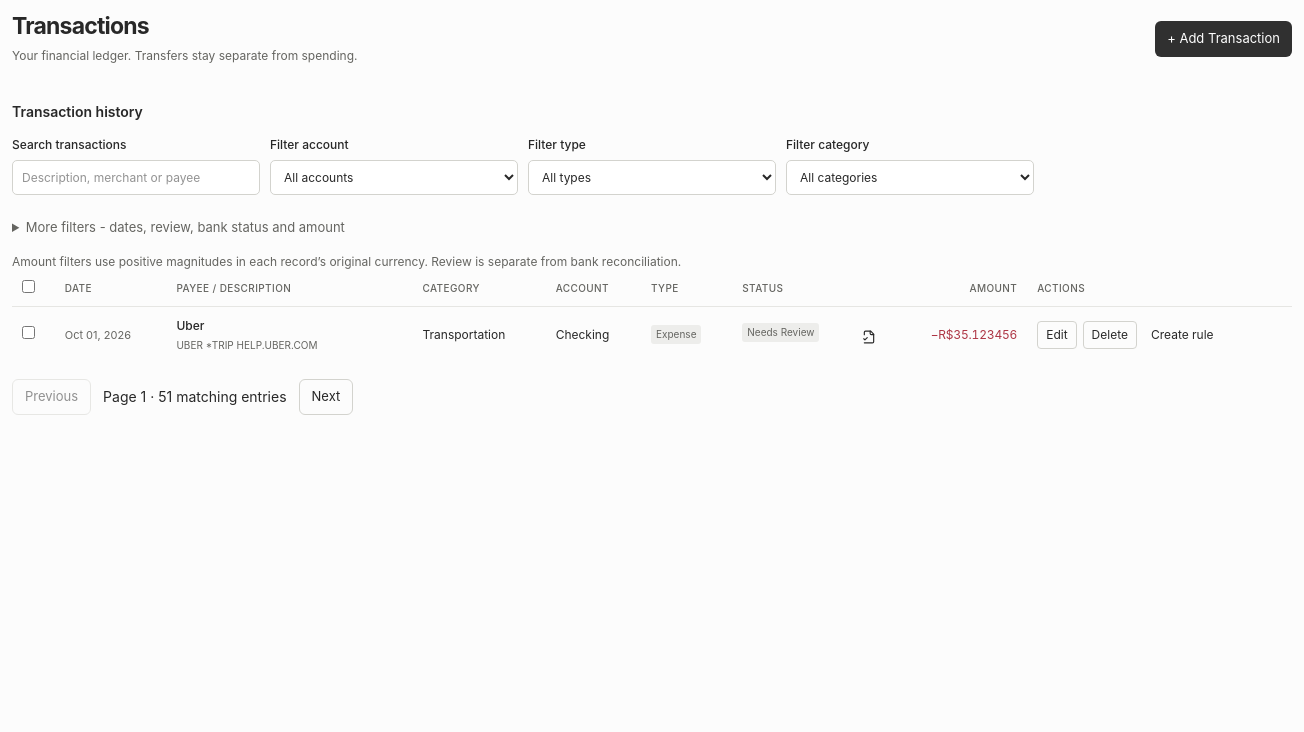
Test: paginates using server counts and clears selection on page/filter changes
The image size is (1304, 732).
Click the checkbox named "Select Uber" at (28, 332), box x1=22 y1=326 x2=35 y2=339
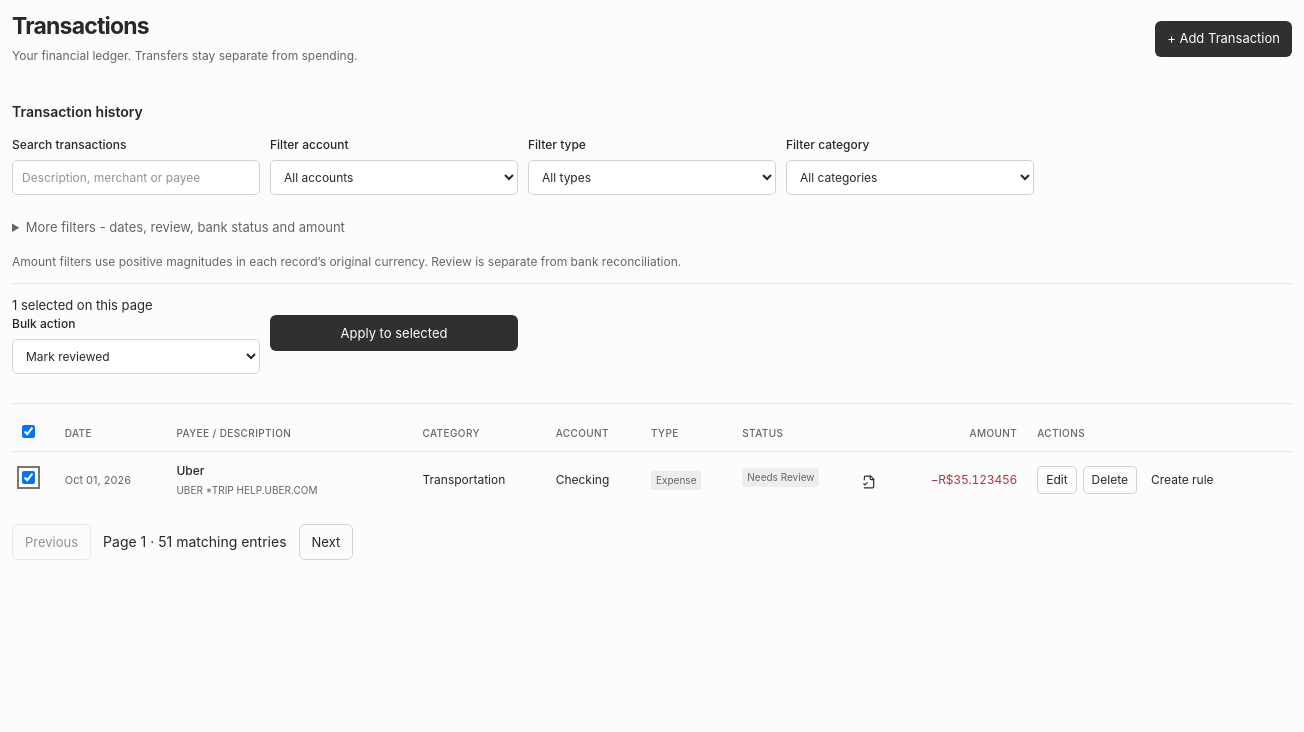
Result: the text "1 selected on this page" is shown at x1=12 y1=297 x2=152 y2=313
Click the button "Next" at (326, 542), box x1=299 y1=524 x2=353 y2=560
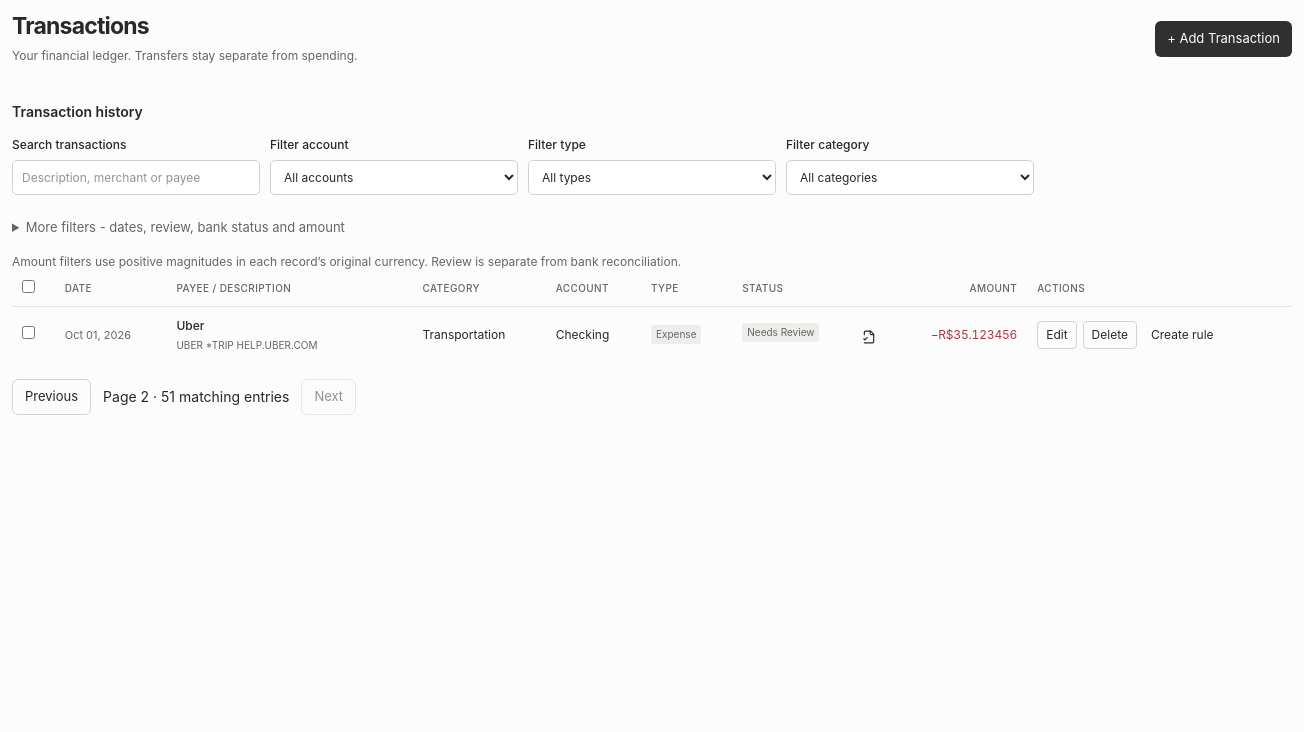
Result: the text "1 selected on this page" is gone
Result: the text "Page 2 · 51 matching entries" is shown at x1=103 y1=387 x2=289 y2=407
Result: the button "Next" is disabled at x1=301 y1=379 x2=356 y2=415
Click the heading "More filters - dates, review, bank status and amount" at (185, 227), box x1=26 y1=219 x2=345 y2=235
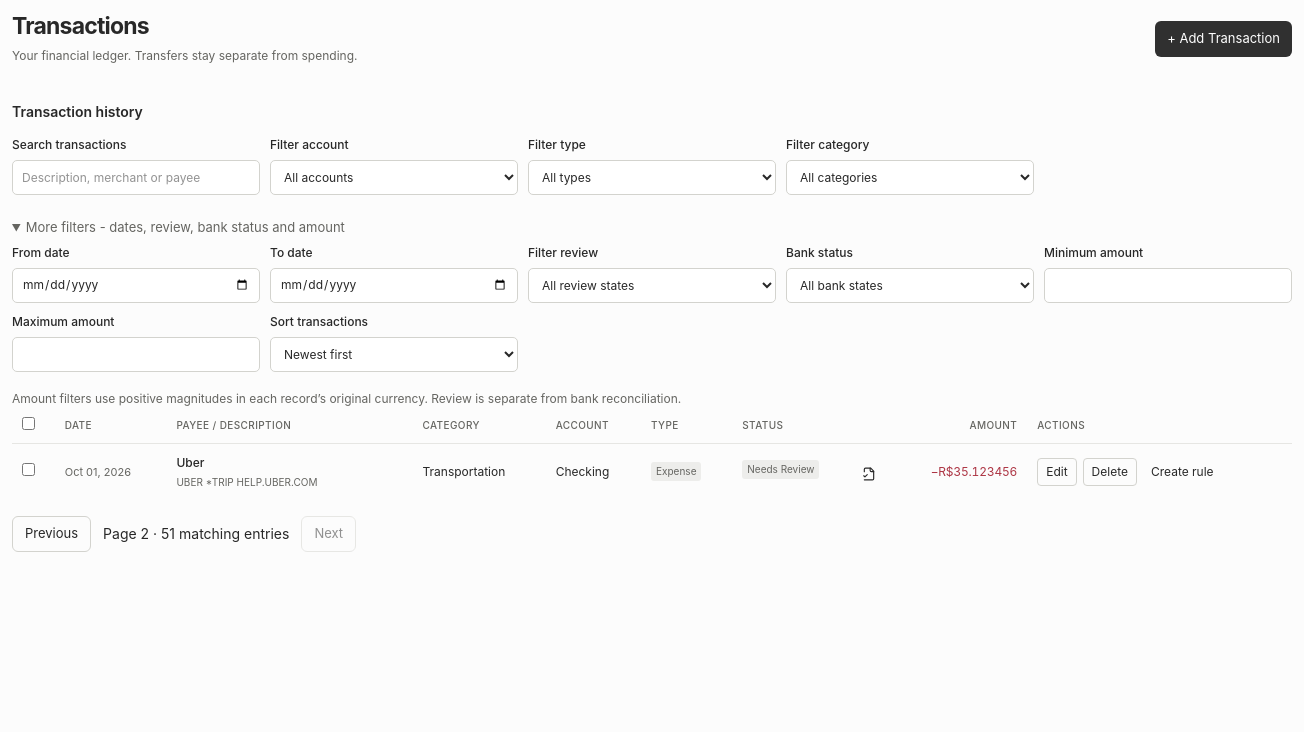
Select "Reviewed" in the dropdown labelled "Filter review" at (652, 285), box x1=528 y1=268 x2=776 y2=303
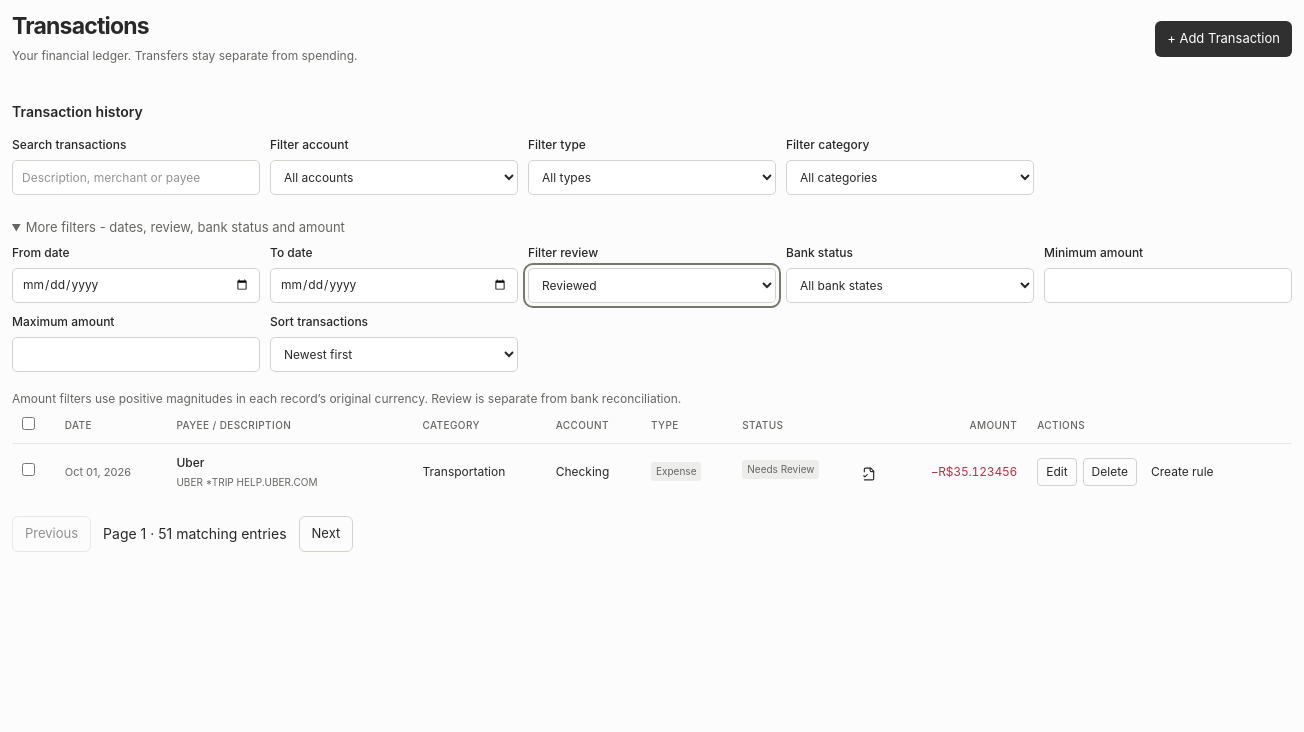
Result: the text "Page 1 · 51 matching entries" is shown at x1=103 y1=524 x2=287 y2=544
Result: the button "Previous" is disabled at x1=12 y1=516 x2=91 y2=552
